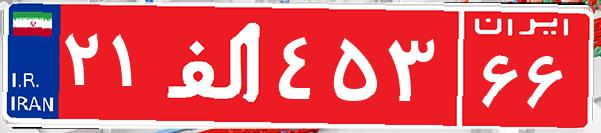1: (110, 28, 158, 105)
2: (57, 26, 110, 107)
3: (385, 28, 445, 110)
4: (273, 28, 330, 110)
5: (330, 28, 385, 110)
6: (475, 38, 525, 113), (525, 38, 570, 115)
الف: (158, 15, 273, 115)
